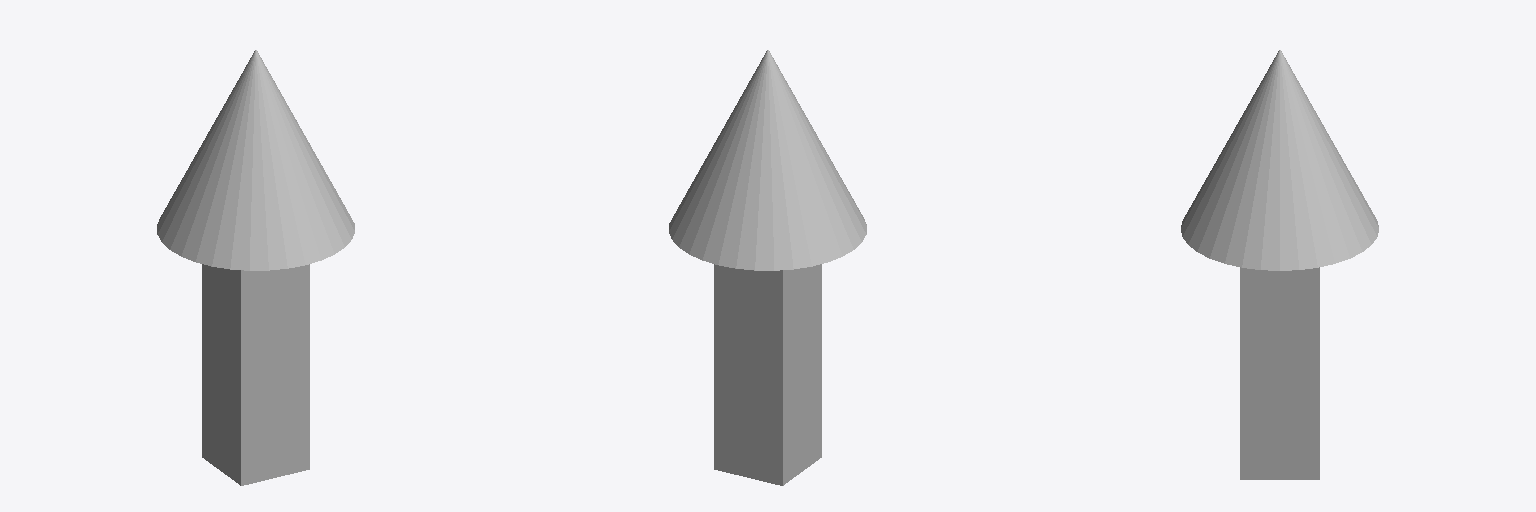
File: simple_arrow.obj
The picture shows the model from 3 angles: view 1: azimuth 30°, elevation 25°; view 2: azimuth 150°, elevation 25°; view 3: azimuth 270°, elevation 25°; orthographic projection.
Parts seen in each view (by area): view 1: Cone, Cube; view 2: Cone, Cube; view 3: Cone, Cube.
Part boxes in pixels (x1,y1,x2,y2): Cone: (157, 50, 354, 270); Cube: (202, 264, 309, 485); Cone: (669, 50, 866, 270); Cube: (714, 264, 821, 485); Cone: (1181, 50, 1378, 270); Cube: (1240, 267, 1319, 479).
Bounding box in the file's own units: 5 × 11.5 × 5.